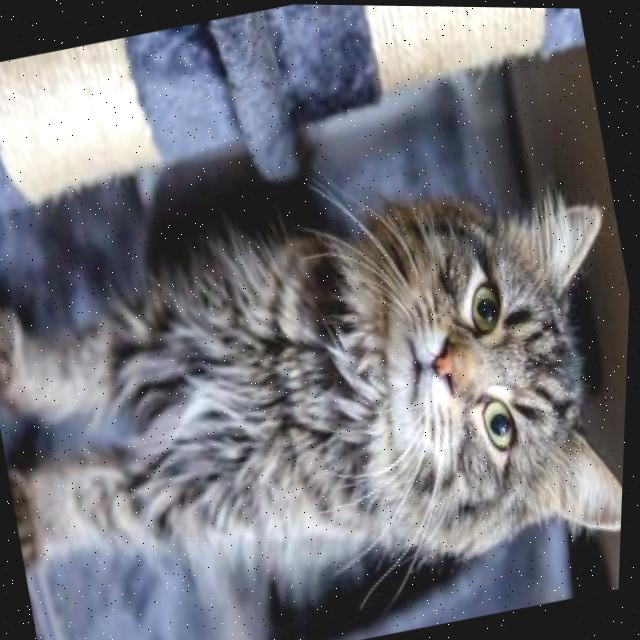Maine Coon: (0, 145, 636, 640)
